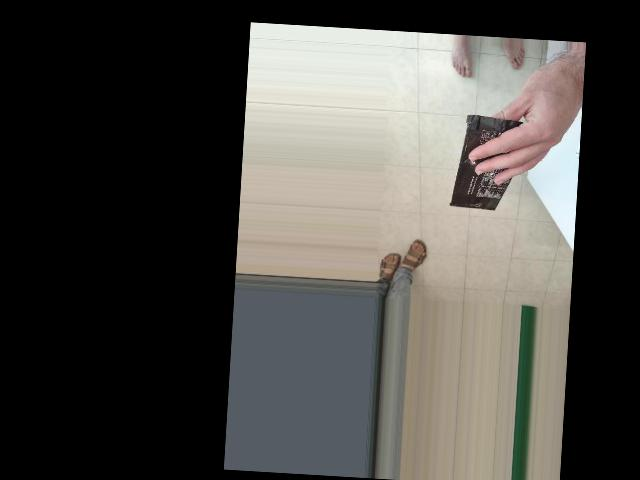chocolate: (366, 147, 487, 236)
